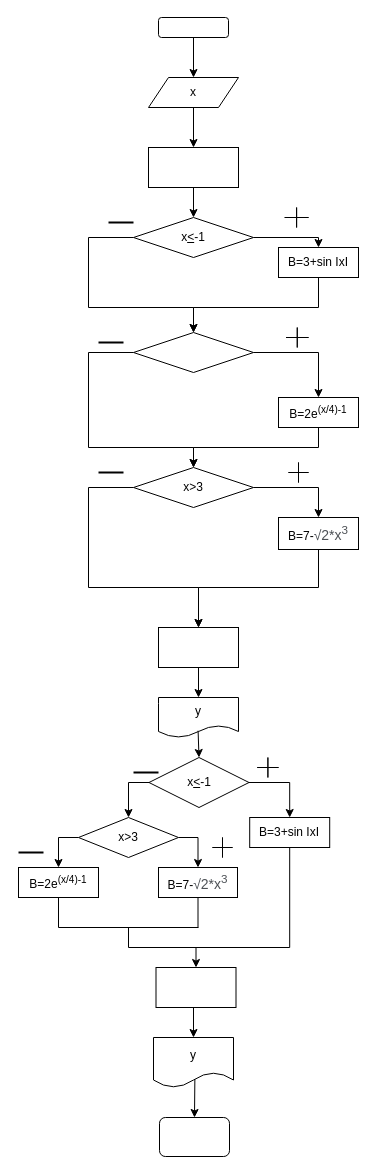
Some shapes in this 376 by 1174 pixel diagram are drawn without their labels. Each missing label, with the box of its shape:
-1<x && x=<3: (132, 332, 254, 372)
y = A + B: (155, 966, 236, 1008)
y = A - B: (158, 626, 238, 668)
А=5e 3x: (148, 146, 238, 188)
кінець: (158, 1116, 230, 1156)
початок: (158, 16, 228, 38)
